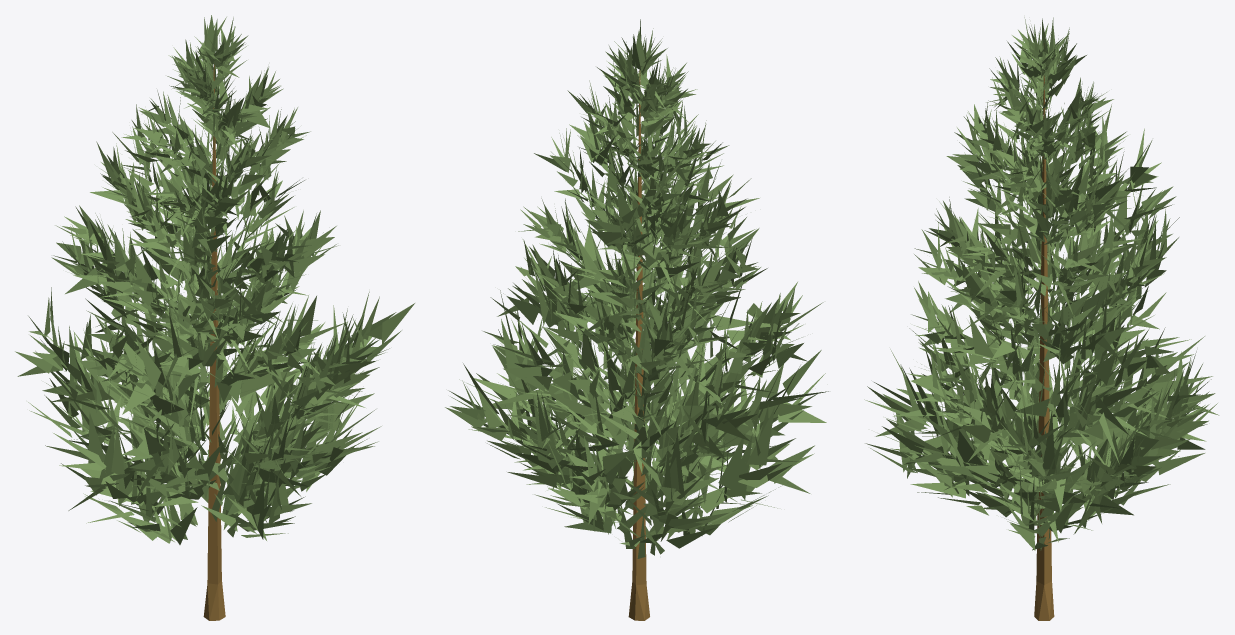
File: tree3.glb
3 renders of one model, left to right at view 1: azimuth 30°, elevation 25°; view 2: azimuth 150°, elevation 25°; view 3: azimuth 270°, elevation 25°, orthographic. The views are drawn at different scales.
Parts seen in each view (by area): view 1: pine; view 2: pine; view 3: pine.
Boxes of the visible parts, bbox=[...] form: pine: bbox=[15, 15, 414, 620]; pine: bbox=[445, 19, 828, 620]; pine: bbox=[864, 17, 1219, 620].
Size of the model in its own units: 0.5668 by 1 by 0.5334.
